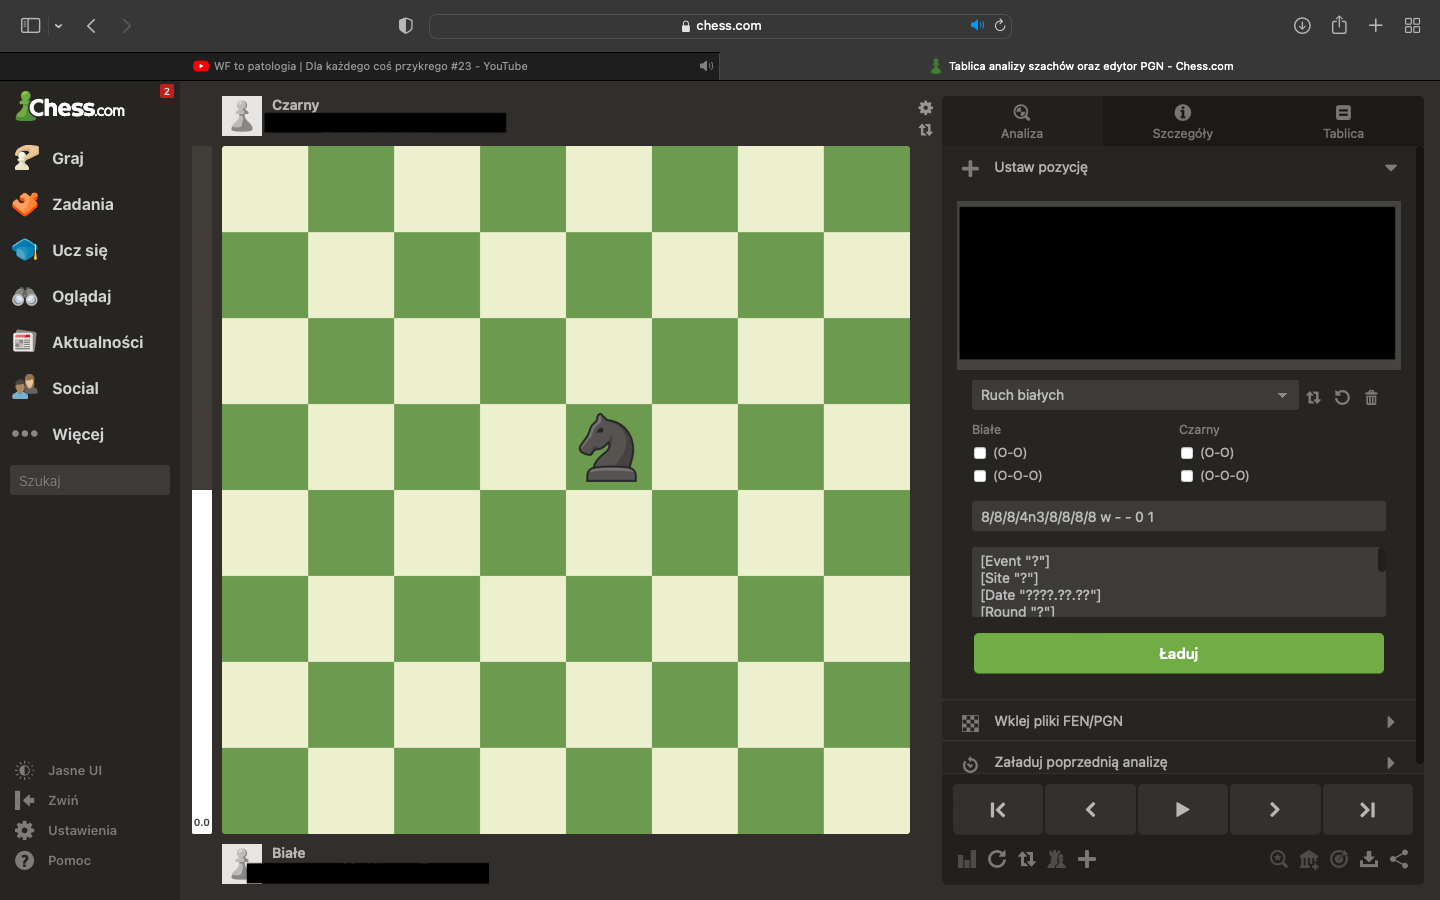black_knight: (578, 412, 640, 484)
